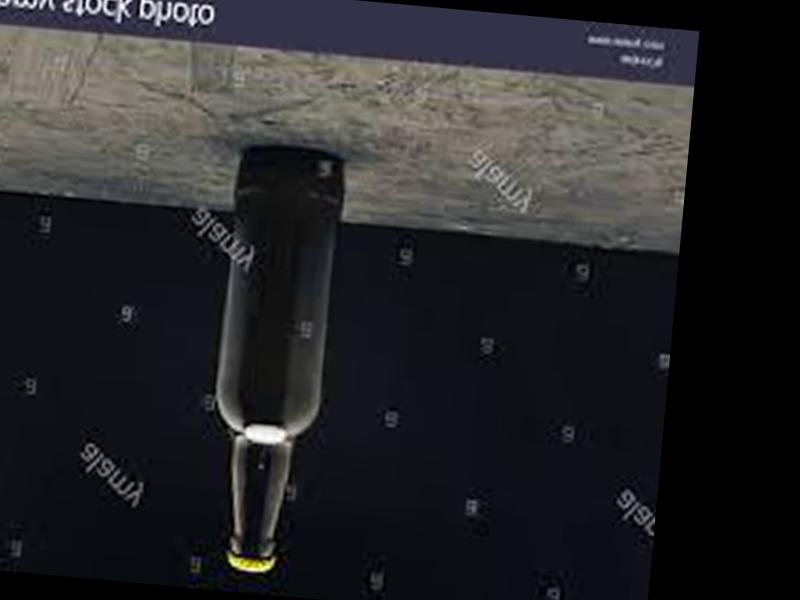Beer: (209, 146, 345, 575)
